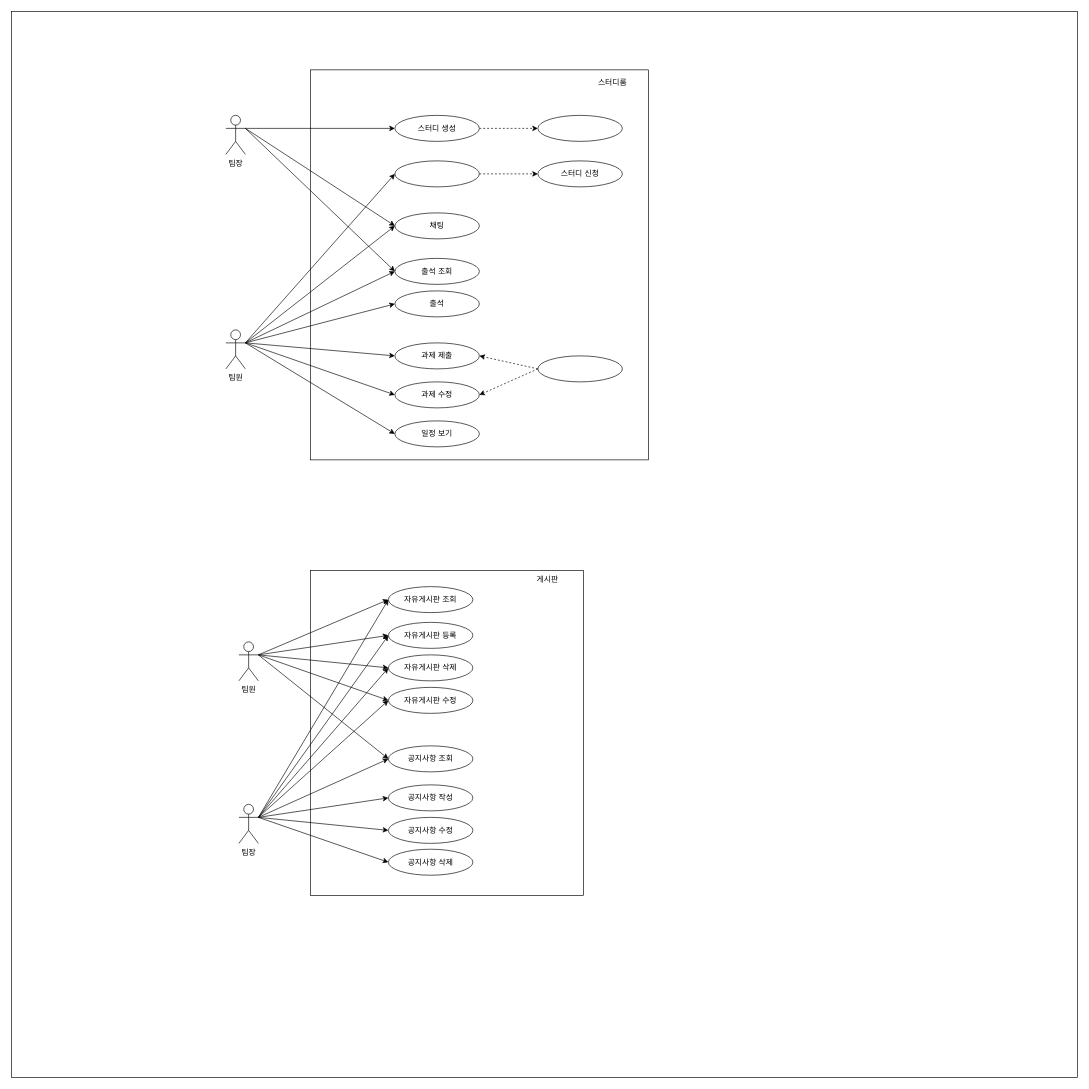
Image size: 1089x1089. Some labels were removed from this diagram. Each missing label, with the box of its shape:
스터디 검색: (394, 160, 479, 187)
스터디 수락: (537, 115, 622, 141)
파일 업로드: (537, 355, 622, 382)
